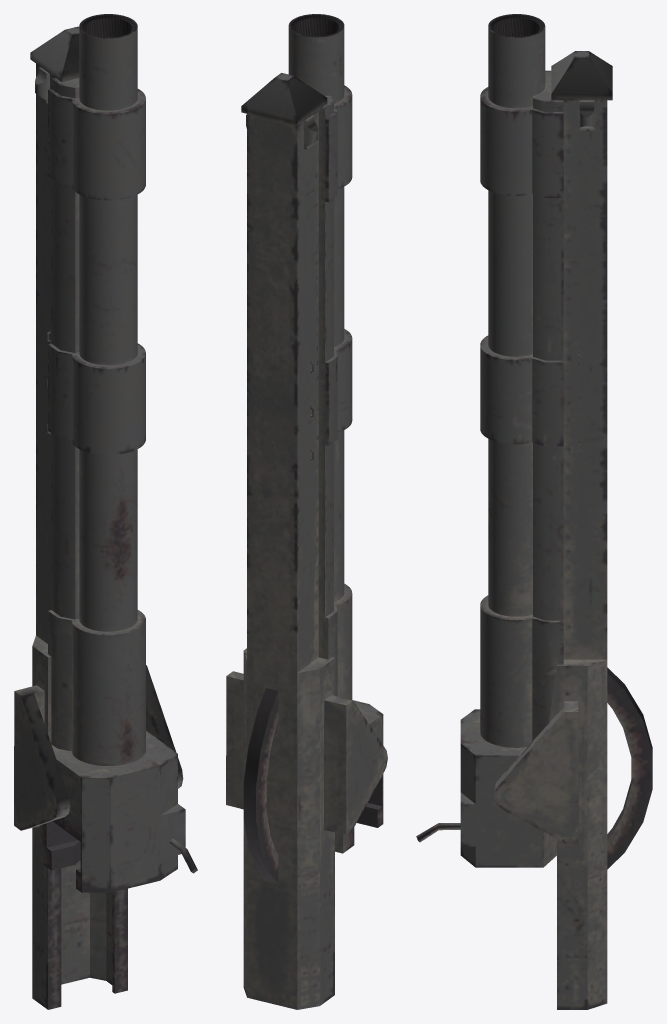
Rendered from Gun_02.glb.
3 views of the same model, side by side, from view 1: azimuth 30°, elevation 25°; view 2: azimuth 150°, elevation 25°; view 3: azimuth 270°, elevation 25° (orthographic). The views are drawn at different scales.
Visible parts, largest first — view 1: set_0_group_0; view 2: set_0_group_0; view 3: set_0_group_0.
Part boxes in pixels (bbox=[...]): set_0_group_0: bbox=[14, 14, 197, 1009]; set_0_group_0: bbox=[226, 14, 387, 1009]; set_0_group_0: bbox=[416, 14, 652, 1009].
Size of the model in its own units: 0.4522 by 3.4 by 0.7546.
Materials: 1 (1 with a texture image).
